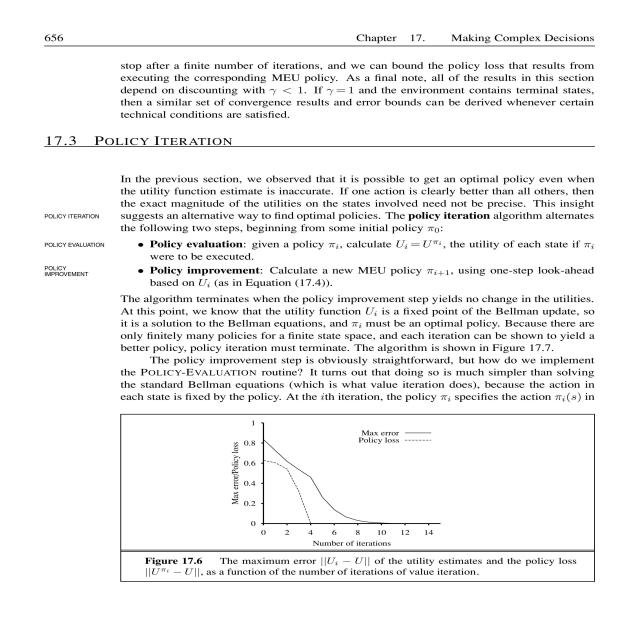diagram: (114, 406, 614, 584)
